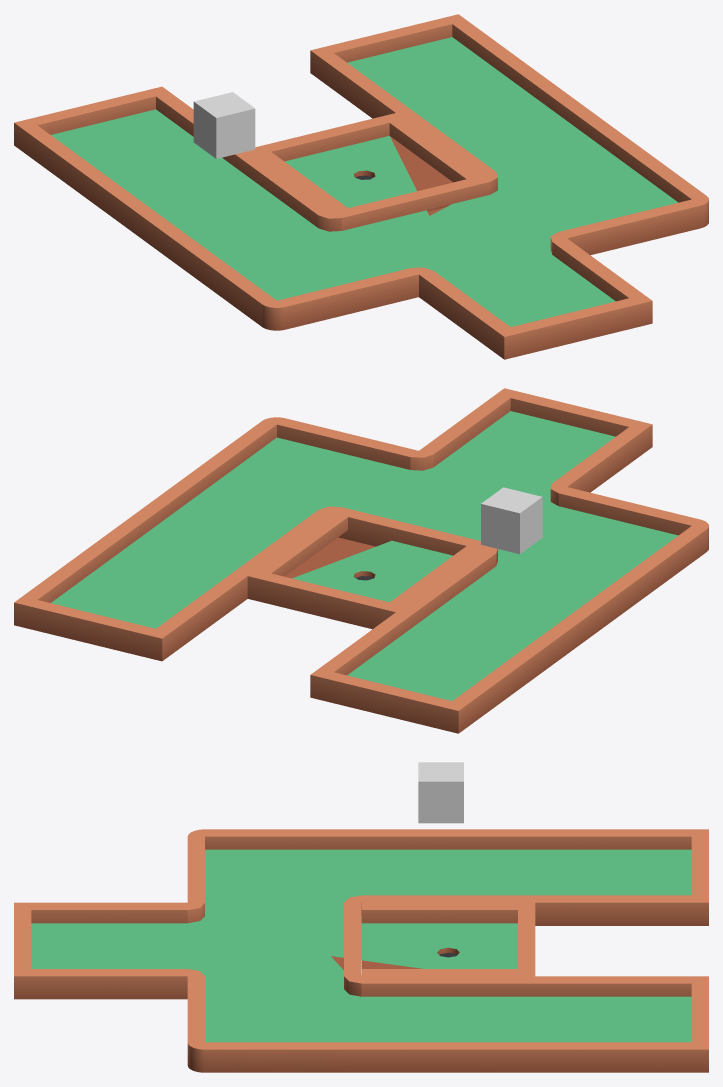
File: course3.glb
The picture shows the model from 3 angles, top to bottom: view 1: azimuth 30°, elevation 25°; view 2: azimuth 150°, elevation 25°; view 3: azimuth 270°, elevation 25°; orthographic projection.
Parts seen in each view (by area): view 1: floor_visual, walls-col, split-t, Cube; view 2: floor_visual, walls-col, Cube, split-t; view 3: floor_visual, walls-col, Cube, split-t.
Part boxes in pixels (x1=…): floor_visual: x1=51, y1=37, x2=677, y2=326; walls-col: x1=14, y1=14, x2=708, y2=359; split-t: x1=333, y1=175, x2=566, y2=274; Cube: x1=193, y1=92, x2=255, y2=158; floor_visual: x1=51, y1=411, x2=678, y2=700; walls-col: x1=14, y1=388, x2=708, y2=733; Cube: x1=481, y1=487, x2=542, y2=554; split-t: x1=333, y1=451, x2=566, y2=555; floor_visual: x1=31, y1=849, x2=691, y2=1042; walls-col: x1=14, y1=829, x2=708, y2=1072; Cube: x1=418, y1=762, x2=463, y2=823; split-t: x1=187, y1=902, x2=361, y2=976.
Size of what is drawn, in the model's own units: 3 by 0.7589 by 4.
5 materials, 5 textured.
